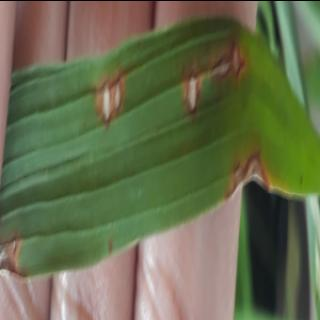Blast: (172, 35, 252, 125), (90, 76, 140, 128)
